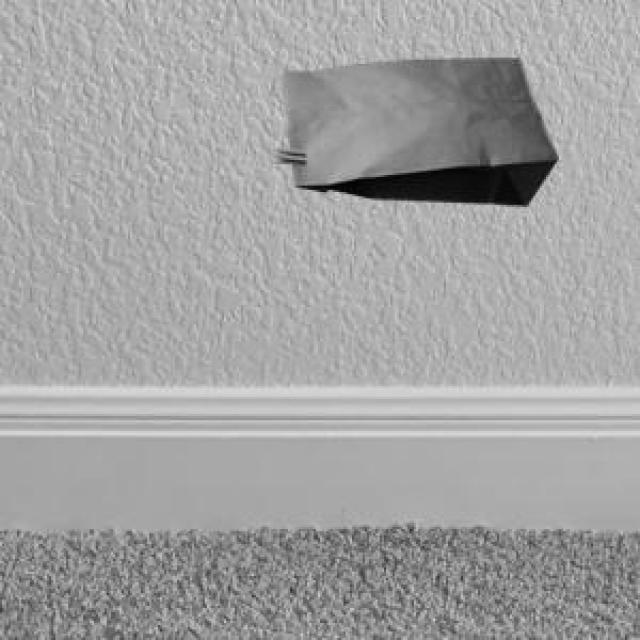paper: (271, 56, 553, 203)
